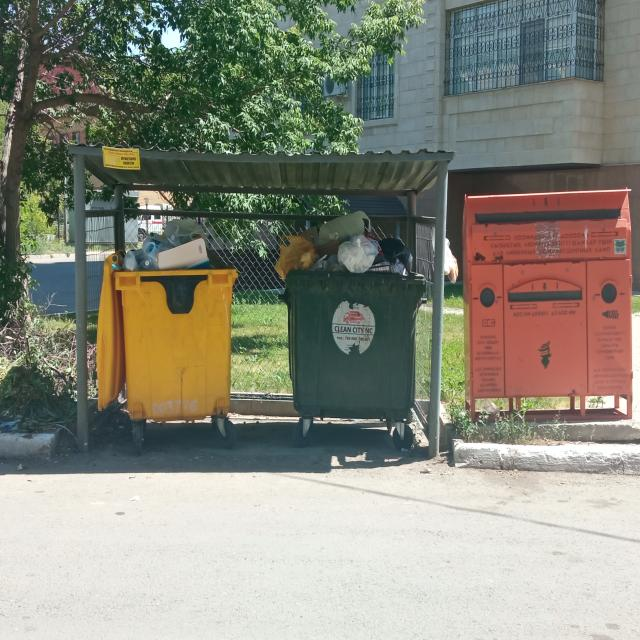bin: (282, 270, 428, 450), (100, 272, 244, 434)
plastic: (280, 203, 416, 272), (117, 225, 224, 265)
